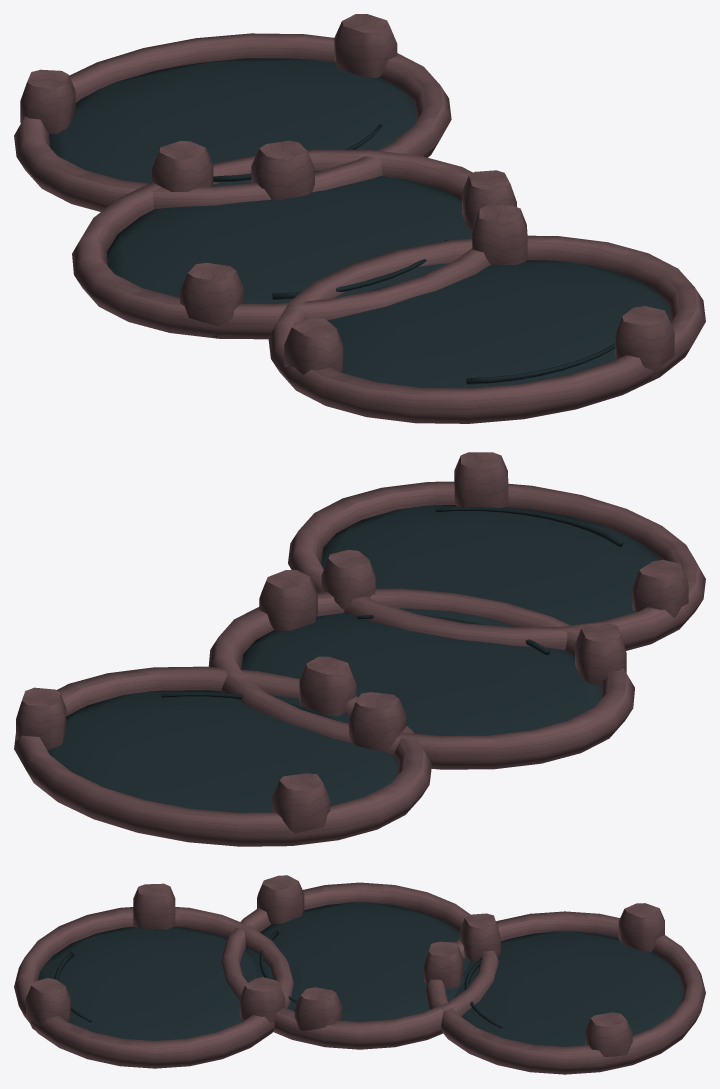
Rendered from PilotTar_2.fbx.
3 views of the same model, one above another, from view 1: azimuth 30°, elevation 25°; view 2: azimuth 150°, elevation 25°; view 3: azimuth 270°, elevation 25° (orthographic). The views are drawn at different scales.
Visible parts, largest first — view 1: PilotTar_2__Geometry, PilotTar_2__Water; view 2: PilotTar_2__Geometry, PilotTar_2__Water; view 3: PilotTar_2__Water, PilotTar_2__Geometry.
Boxes of the visible parts, x1=… form: PilotTar_2__Geometry: x1=14, y1=14, x2=705, y2=423; PilotTar_2__Water: x1=49, y1=58, x2=670, y2=388; PilotTar_2__Geometry: x1=14, y1=452, x2=705, y2=846; PilotTar_2__Water: x1=47, y1=505, x2=661, y2=812; PilotTar_2__Water: x1=38, y1=902, x2=683, y2=1046; PilotTar_2__Geometry: x1=14, y1=875, x2=705, y2=1074.
Size of the model in its own units: 1.77 by 0.208 by 2.94.
